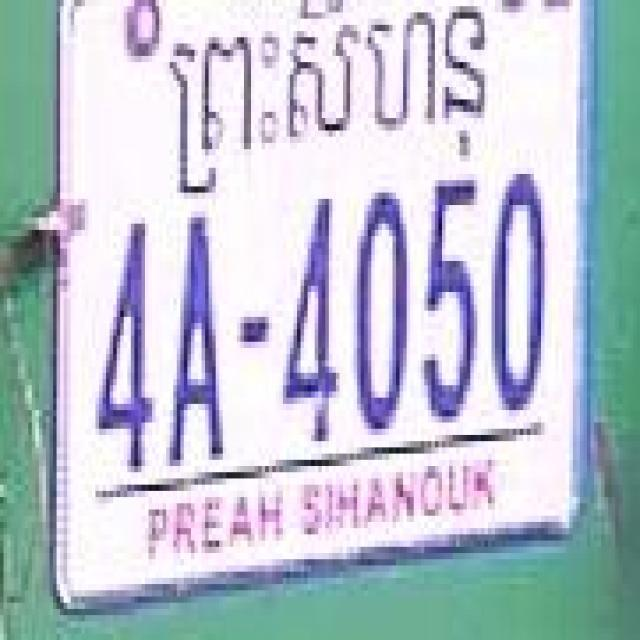Preah_Sihanouk: (170, 6, 484, 196)
